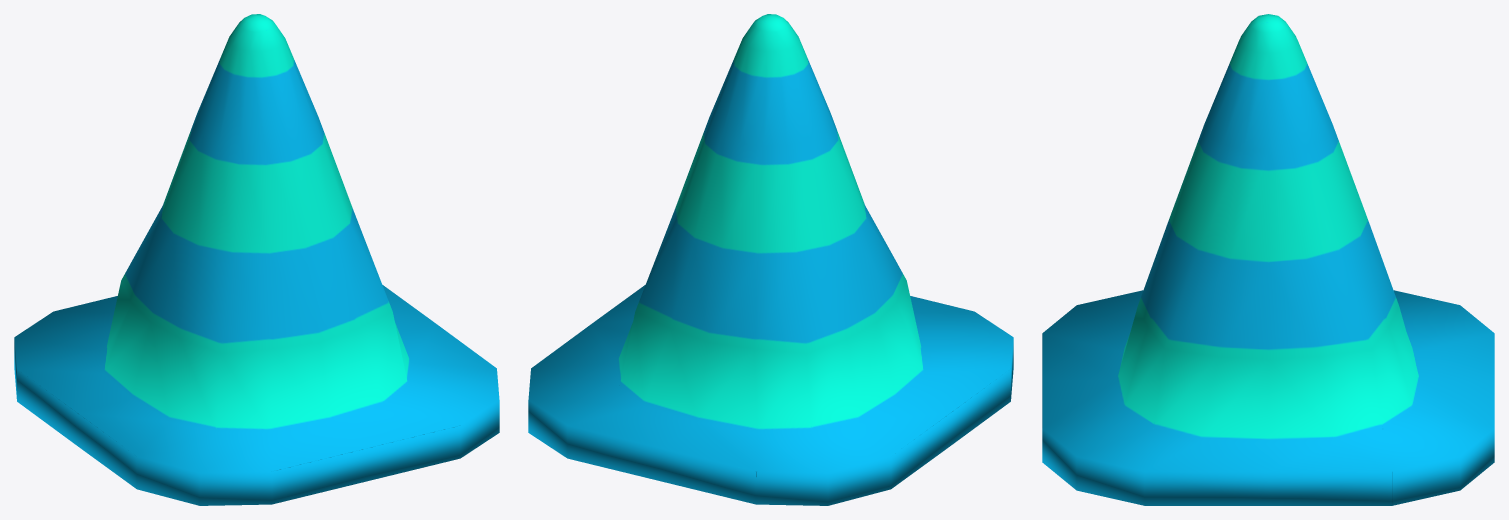
Rendered from trafficcon.glb.
The picture shows the model from 3 angles, left to right: view 1: azimuth 30°, elevation 25°; view 2: azimuth 150°, elevation 25°; view 3: azimuth 270°, elevation 25°; orthographic projection. The views are drawn at different scales.
Visible parts, largest first — view 1: Cylinder; view 2: Cylinder; view 3: Cylinder.
Part boxes in pixels (x1=…): Cylinder: x1=14, y1=14, x2=499, y2=505; Cylinder: x1=528, y1=14, x2=1013, y2=505; Cylinder: x1=1042, y1=14, x2=1494, y2=505.
Size of the model in its own units: 2.28 by 2.33 by 2.4.
Materials: 1 (1 with a texture image).
